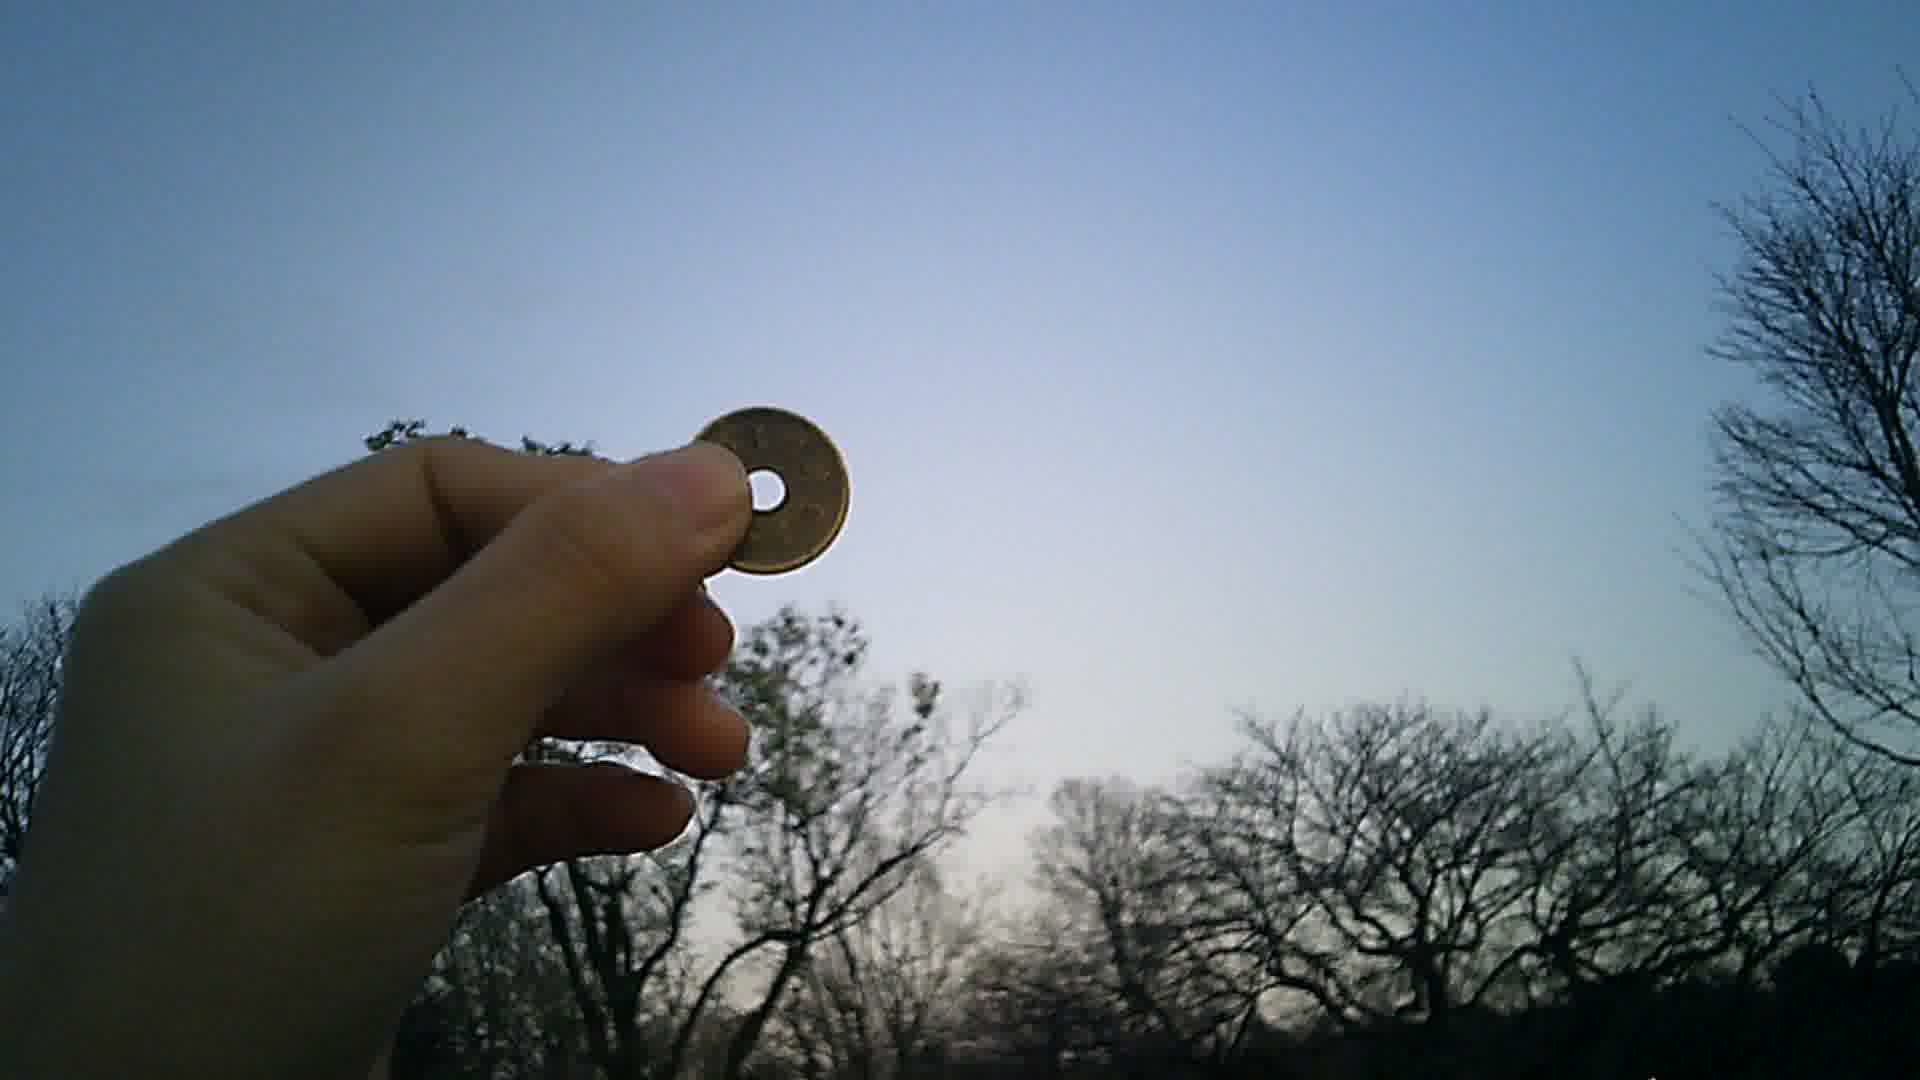5 Yen: (684, 401, 862, 589)
